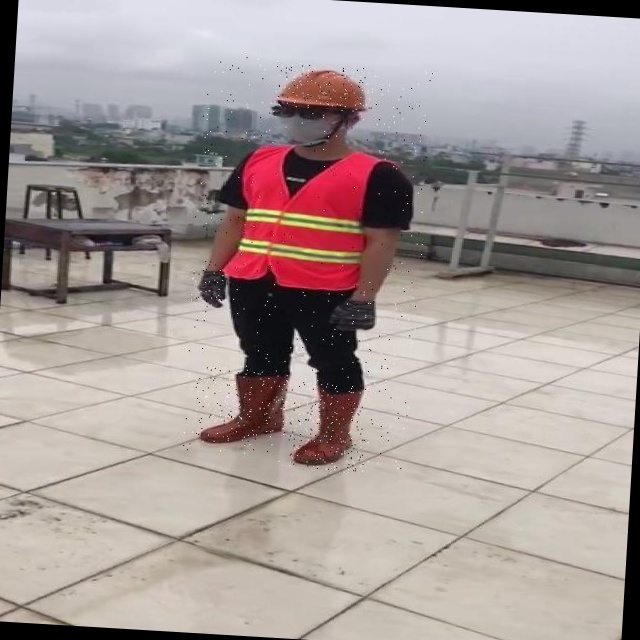boots: (348, 373, 438, 450), (268, 383, 344, 469)
gloves: (394, 251, 489, 332), (252, 276, 332, 342)
helmet: (281, 66, 378, 111)
vest: (260, 147, 423, 289)
